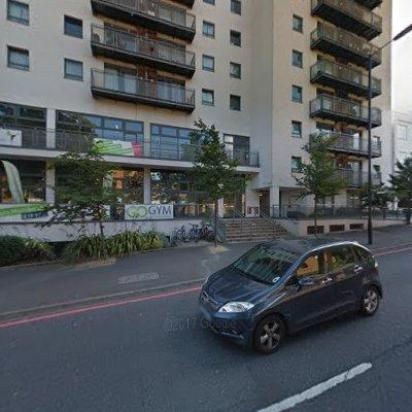moving-car: (197, 232, 383, 358)
